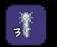rope: (1, 0, 57, 47)
